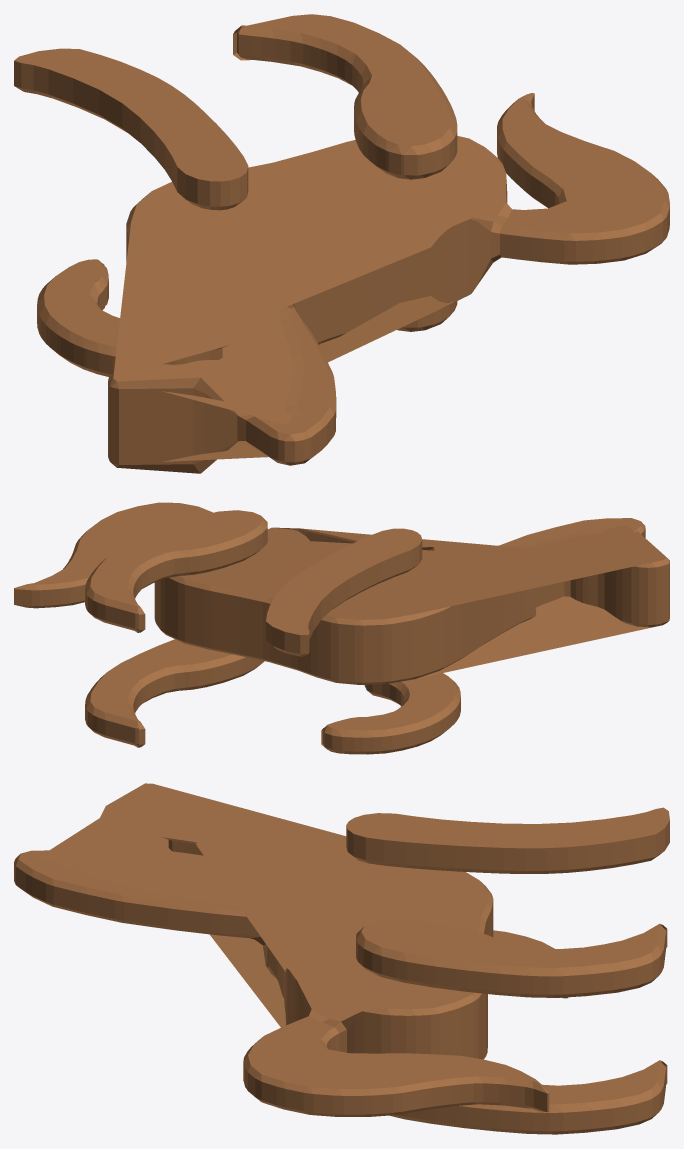
Rendered from horse.fbx.
3 views of the same model, one above another, from view 1: azimuth 30°, elevation 25°; view 2: azimuth 150°, elevation 25°; view 3: azimuth 270°, elevation 25° (orthographic). The views are drawn at different scales.
Parts seen in each view (by area): view 1: main body, hind leg.001, front leg straight, front leg bent, hind leg; view 2: main body, hind leg.001, front leg straight, hind leg, front leg bent; view 3: main body, hind leg.001, front leg straight, hind leg, front leg bent.
Part boxes in pixels (box(x1,y1,x2,y2)): main body: box(108, 93, 669, 473); hind leg.001: box(233, 14, 457, 179); front leg straight: box(14, 48, 248, 210); front leg bent: box(37, 259, 119, 376); hind leg: box(397, 301, 457, 331); main body: box(14, 502, 669, 684); hind leg.001: box(85, 510, 267, 632); front leg straight: box(266, 528, 422, 656); hind leg: box(85, 639, 264, 747); front leg bent: box(321, 673, 460, 754); main body: box(14, 783, 549, 1116); hind leg.001: box(356, 920, 667, 997); front leg straight: box(346, 807, 669, 873); hind leg: box(390, 1060, 667, 1134); front leg bent: box(493, 930, 567, 998).
Bounding box in the file's own units: 136 × 40.93 × 132.
